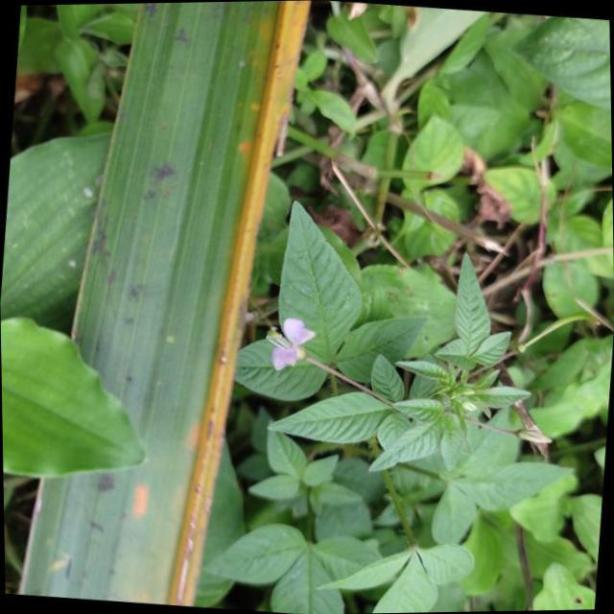Megnesium: (22, 0, 307, 614)
